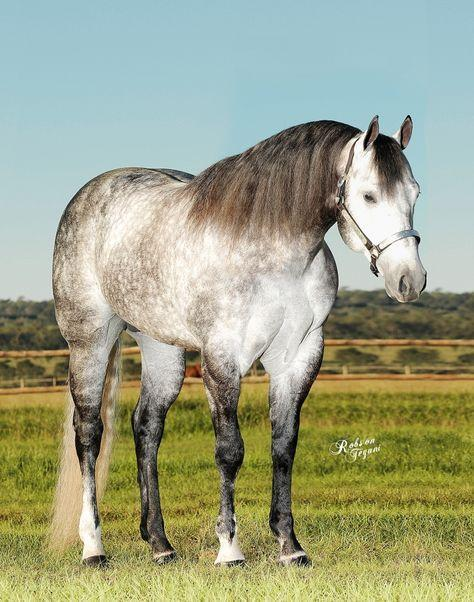horse: (41, 113, 427, 570)
